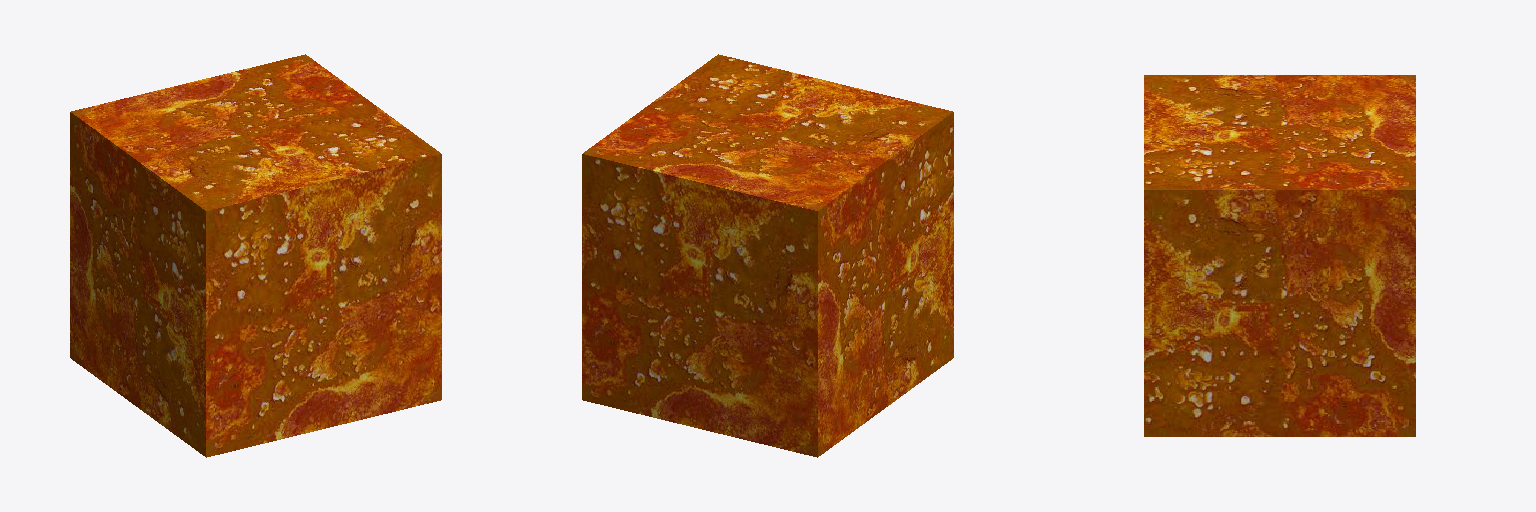
3 renders of one model, left to right at view 1: azimuth 30°, elevation 25°; view 2: azimuth 150°, elevation 25°; view 3: azimuth 270°, elevation 25°, orthographic.
Parts seen in each view (by area): view 1: Object.1; view 2: Object.1; view 3: Object.1.
Boxes of the visible parts, x1,y1,x2,y2 form: Object.1: [70, 54, 441, 457]; Object.1: [582, 54, 953, 457]; Object.1: [1144, 75, 1415, 436].
Size of the model in its own units: 1 by 1 by 1.
Materials: 1 (1 with a texture image).